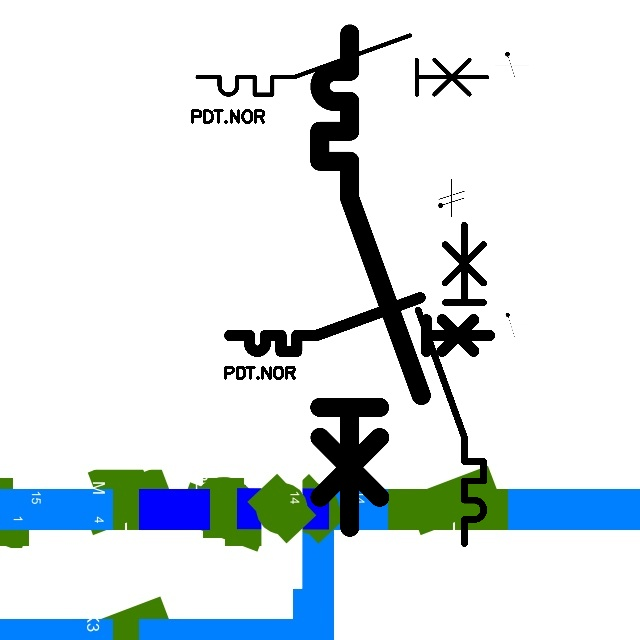interruptor_termomagnetico: (307, 21, 434, 540), (410, 216, 492, 551), (190, 28, 494, 102), (223, 291, 496, 358)
